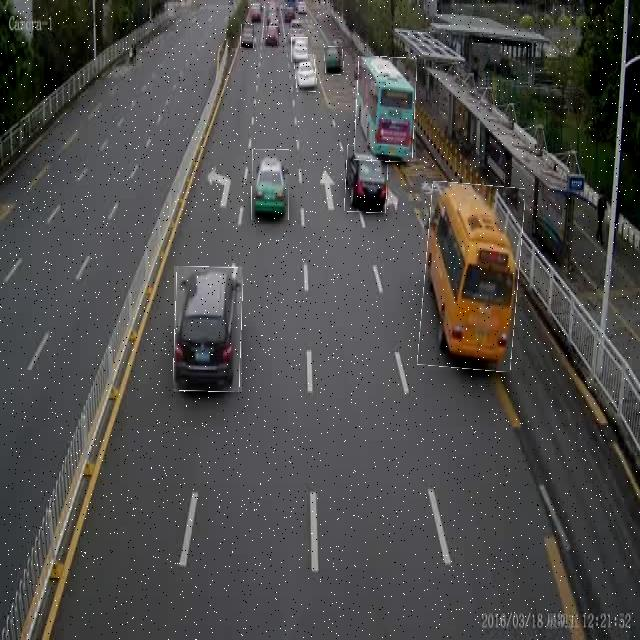Bus: (421, 183, 522, 370), (355, 57, 416, 161)
Car: (174, 266, 242, 392), (345, 146, 388, 212), (252, 149, 289, 220), (296, 55, 316, 92), (324, 47, 344, 75), (291, 37, 308, 62), (241, 24, 254, 48), (266, 26, 278, 45)
